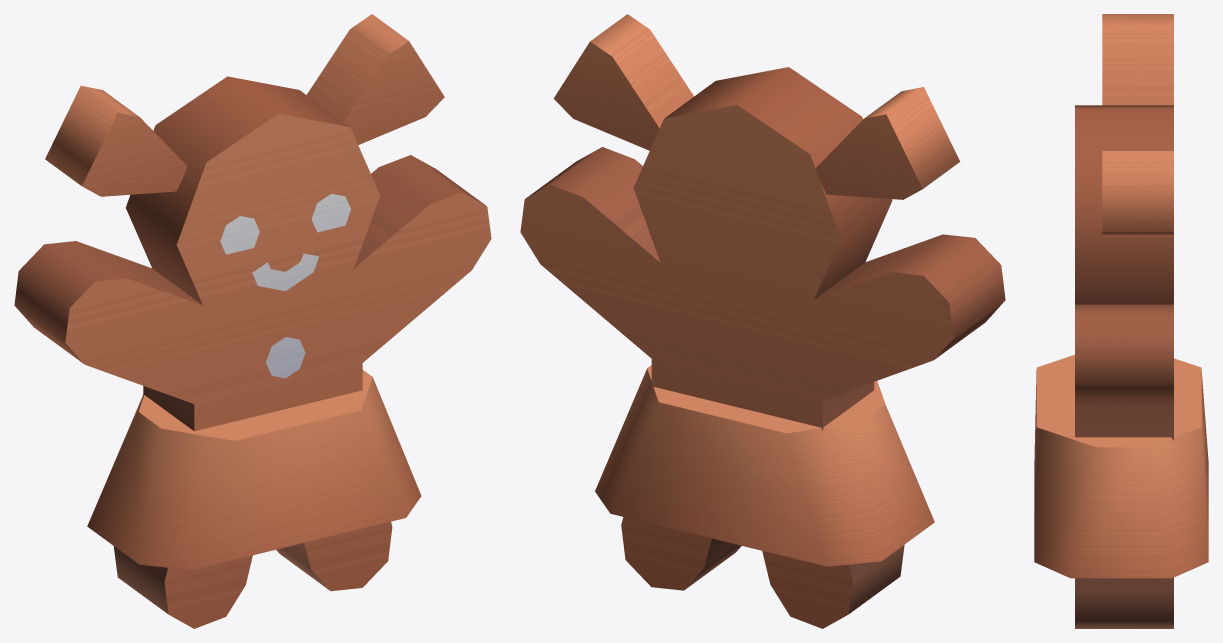
Rendered from gingerbread-woman.glb.
3 renders of one model, left to right at view 1: azimuth 30°, elevation 25°; view 2: azimuth 150°, elevation 25°; view 3: azimuth 270°, elevation 25°, orthographic. The views are drawn at different scales.
Parts seen in each view (by area): view 1: gingerbread-woman, gingerbread-woman.001; view 2: gingerbread-woman, gingerbread-woman.001; view 3: gingerbread-woman, gingerbread-woman.001.
Part boxes in pixels (<box>): gingerbread-woman: <box>14,14,491,628</box>; gingerbread-woman.001: <box>87,370,421,569</box>; gingerbread-woman: <box>520,14,1005,628</box>; gingerbread-woman.001: <box>595,365,934,566</box>; gingerbread-woman: <box>1075,14,1173,628</box>; gingerbread-woman.001: <box>1034,354,1208,578</box>.
Bounding box in the file's own units: 1.02 × 1.19 × 0.3711.
1 material, 1 textured.
